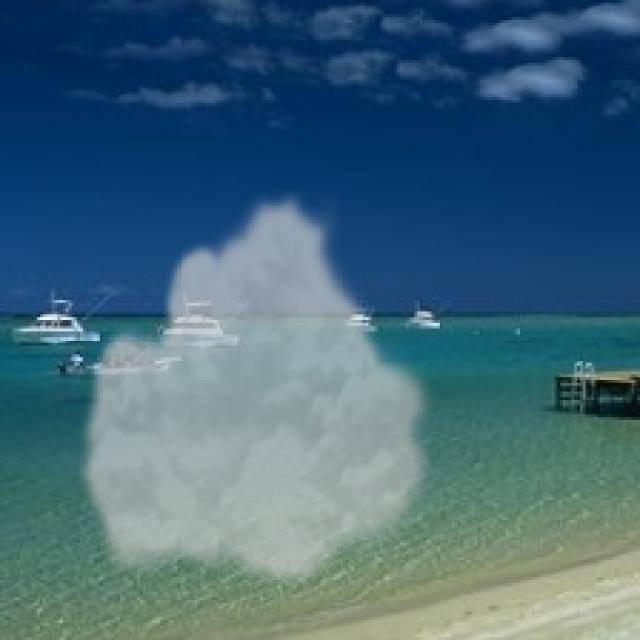Smoke: (74, 188, 440, 588)
